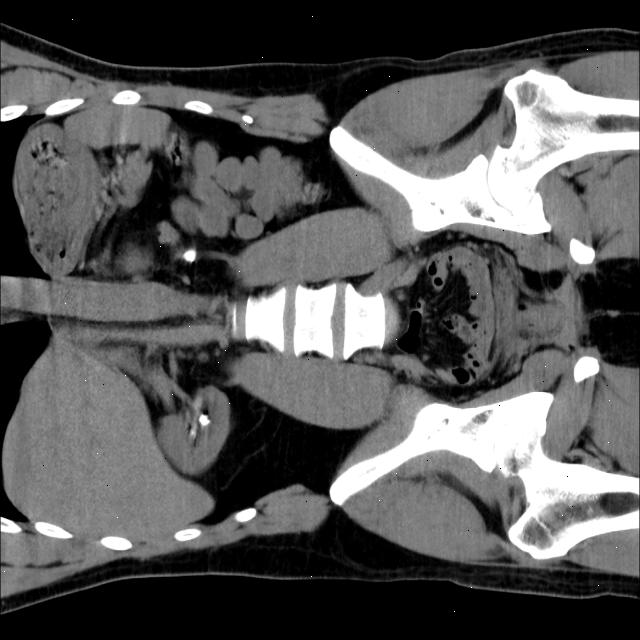kidneystone: (182, 247, 196, 262), (199, 411, 210, 425)
